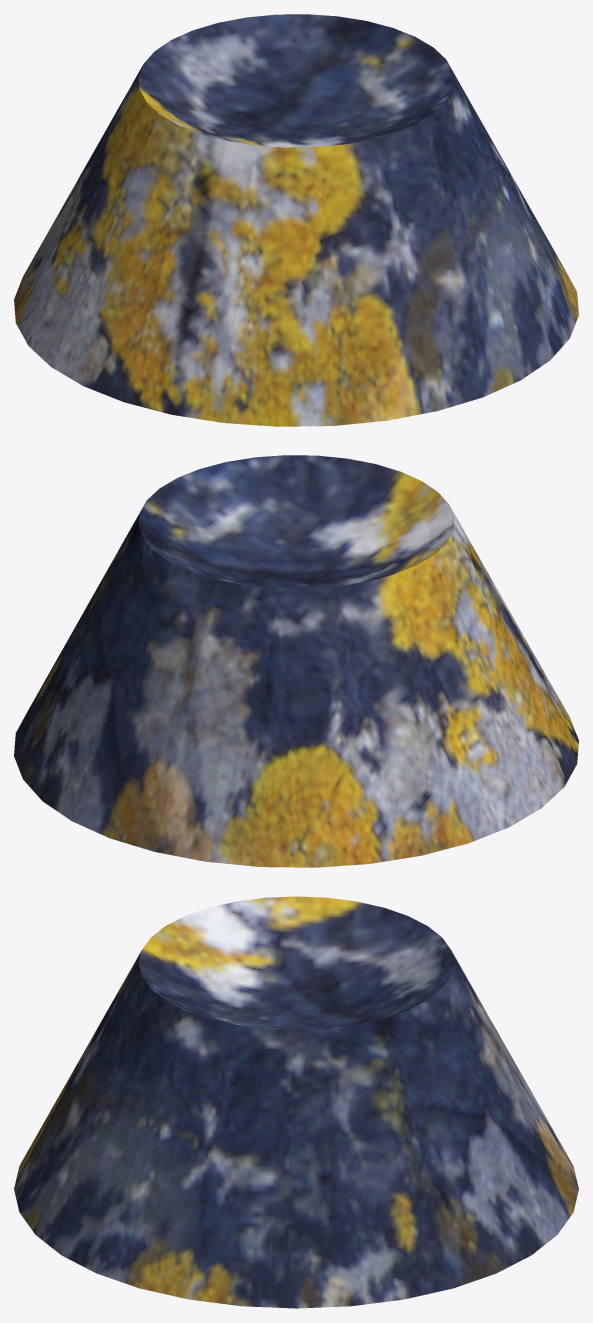
The model's file is alien.obj.
The picture shows the model from 3 angles, top to bottom: view 1: azimuth 30°, elevation 25°; view 2: azimuth 150°, elevation 25°; view 3: azimuth 270°, elevation 25°; orthographic projection.
Parts seen in each view (by area): view 1: Cone_Cone.003; view 2: Cone_Cone.003; view 3: Cone_Cone.003.
Boxes of the visible parts, <box> form: Cone_Cone.003: <box>14,14,578,426</box>; Cone_Cone.003: <box>14,455,578,867</box>; Cone_Cone.003: <box>14,896,578,1308</box>.
Size of the model in its own units: 1.56 by 0.6896 by 1.56.
1 material, 1 textured.
